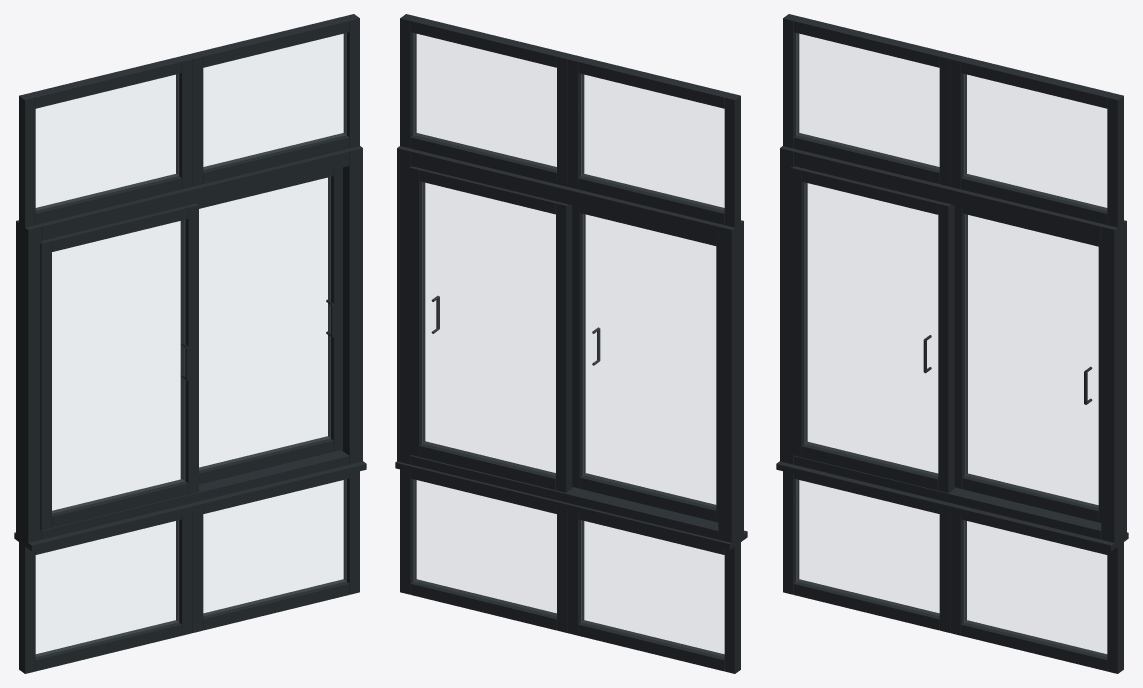
File: black-sliding-window-with-transom-and-sill-lights-04.glb
3 renders of one model, left to right at view 1: azimuth 30°, elevation 25°; view 2: azimuth 150°, elevation 25°; view 3: azimuth 330°, elevation 25°, orthographic.
Parts seen in each view (by area): view 1: Window / Fixed light glass, Window / Sliding leaf 1 glass, Window / Sliding leaf 2 glass, Window / Fixed light sash, Window / Outer jamb, Window / Sliding leaf 1 sash, Window / Sliding leaf 2 sash, Window / Sill extrusion, Window / Fixed light glazing gasket; view 2: Window / Fixed light glass, Window / Sliding leaf 1 glass, Window / Sliding leaf 2 glass, Window / Fixed light sash, Window / Outer jamb, Window / Sliding leaf 2 sash, Window / Sliding leaf 1 sash, Window / Sill extrusion, Window / Fixed light glazing gasket, Window / Sliding leaf 1 glazing gasket; view 3: Window / Fixed light glass, Window / Sliding leaf 1 glass, Window / Sliding leaf 2 glass, Window / Fixed light sash, Window / Outer jamb, Window / Sliding leaf 1 sash, Window / Sliding leaf 2 sash, Window / Sill extrusion, Window / Sliding leaf 2 glazing gasket, Window / Fixed light glazing gasket.
Part boxes in pixels (x1,y1,x2,y2): Window / Fixed light glass: (36, 34, 345, 656); Window / Sliding leaf 1 glass: (52, 220, 184, 512); Window / Sliding leaf 2 glass: (199, 177, 329, 469); Window / Fixed light sash: (19, 14, 359, 673); Window / Outer jamb: (16, 146, 362, 542); Window / Sliding leaf 1 sash: (40, 203, 198, 530); Window / Sliding leaf 2 sash: (180, 167, 342, 484); Window / Sill extrusion: (14, 461, 366, 551); Window / Fixed light glazing gasket: (35, 33, 346, 656); Window / Fixed light glass: (414, 34, 723, 656); Window / Sliding leaf 1 glass: (583, 214, 715, 506); Window / Sliding leaf 2 glass: (423, 183, 555, 475); Window / Fixed light sash: (400, 14, 740, 673); Window / Outer jamb: (397, 146, 743, 542); Window / Sliding leaf 2 sash: (408, 166, 572, 492); Window / Sliding leaf 1 sash: (572, 205, 718, 522); Window / Sill extrusion: (395, 461, 747, 549); Window / Fixed light glazing gasket: (413, 33, 724, 656); Window / Sliding leaf 1 glazing gasket: (582, 213, 716, 508); Window / Fixed light glass: (797, 34, 1106, 656); Window / Sliding leaf 1 glass: (805, 183, 937, 475); Window / Sliding leaf 2 glass: (965, 215, 1097, 507); Window / Fixed light sash: (783, 14, 1123, 673); Window / Outer jamb: (780, 146, 1126, 548); Window / Sliding leaf 1 sash: (791, 166, 954, 492); Window / Sliding leaf 2 sash: (954, 205, 1101, 522); Window / Sill extrusion: (776, 461, 1128, 551); Window / Sliding leaf 2 glazing gasket: (964, 214, 1098, 508); Window / Fixed light glazing gasket: (796, 33, 1106, 657).
Bounding box in the file's own units: 1.1 × 1.8 × 0.123.
